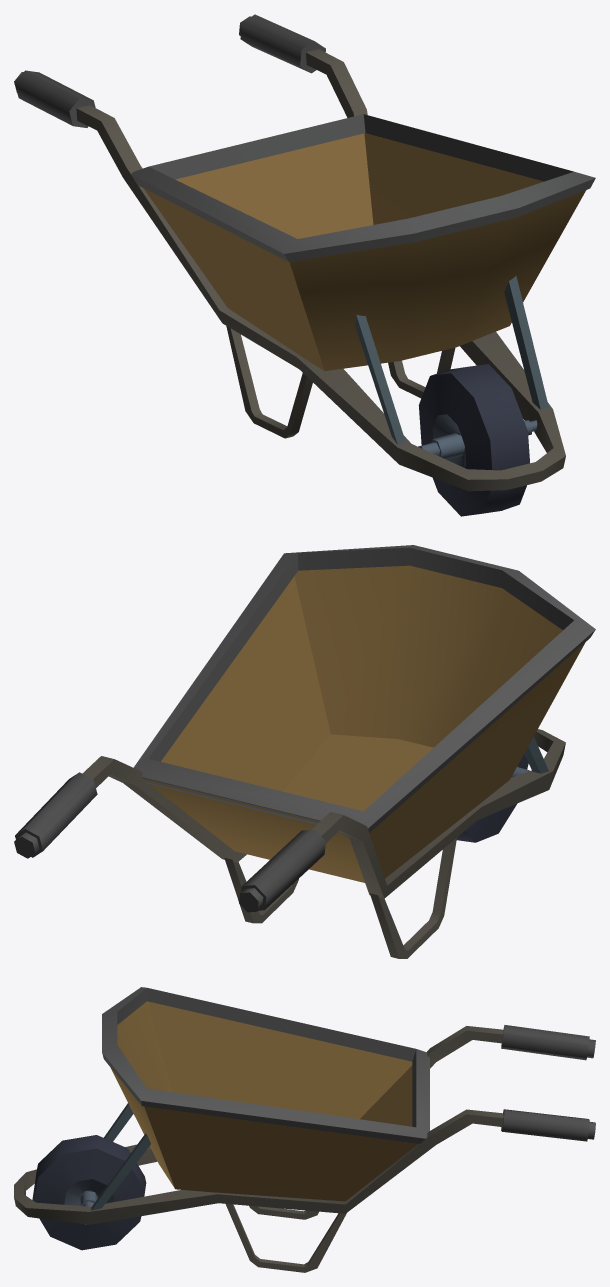
The model's file is WheelBarel_3.glb.
3 renders of one model, top to bottom at view 1: azimuth 30°, elevation 25°; view 2: azimuth 150°, elevation 25°; view 3: azimuth 270°, elevation 25°, orthographic. The views are drawn at different scales.
Parts seen in each view (by area): view 1: WheelBarel_3; view 2: WheelBarel_3; view 3: WheelBarel_3.
Boxes of the visible parts, <box> form: WheelBarel_3: <box>14,14,595,516</box>; WheelBarel_3: <box>14,545,595,958</box>; WheelBarel_3: <box>14,987,595,1272</box>.
Bounding box in the file's own units: 0.9988 × 0.8856 × 2.16.
1 material, 1 textured.
